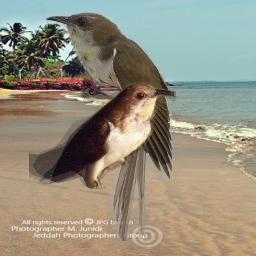Cuckoo: (45, 10, 172, 241), (29, 82, 176, 189)
